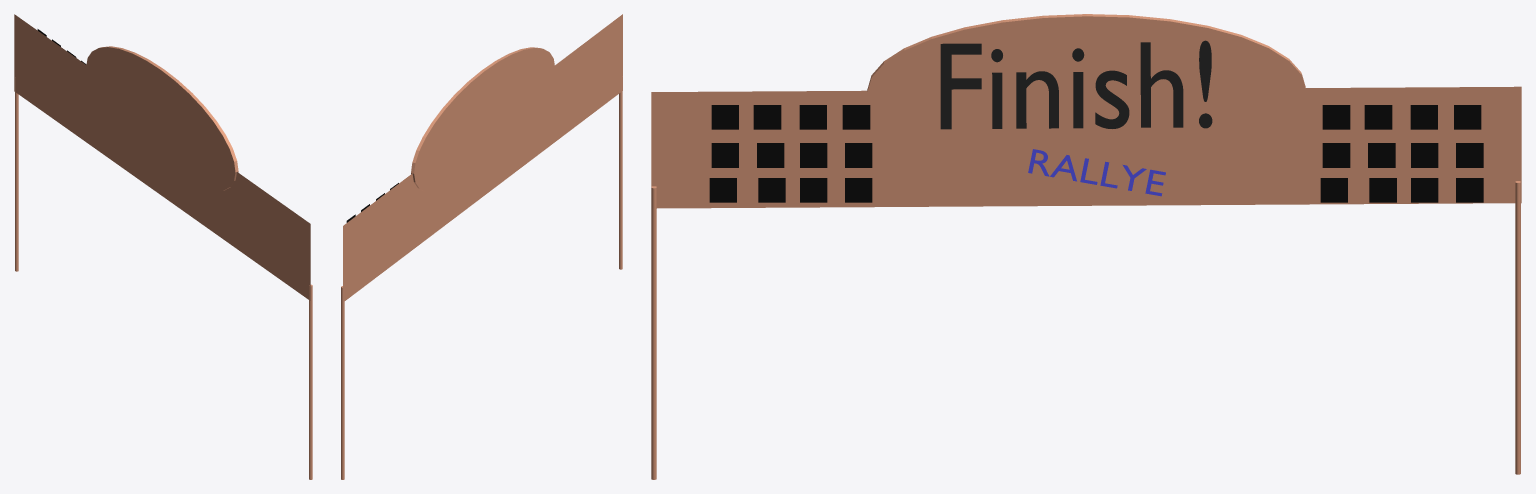
The model's file is endFlag.fbx.
The picture shows the model from 3 angles, left to right: view 1: azimuth 30°, elevation 25°; view 2: azimuth 150°, elevation 25°; view 3: azimuth 270°, elevation 25°; orthographic projection. The views are drawn at different scales.
Visible parts, largest first — view 1: Cylinder.001; view 2: Cylinder.001; view 3: Cylinder.001, ASACG, Text.
Boxes of the visible parts, x1=… form: Cylinder.001: x1=14, y1=14, x2=312, y2=479; Cylinder.001: x1=341, y1=14, x2=622, y2=479; Cylinder.001: x1=651, y1=14, x2=1521, y2=479; ASACG: x1=940, y1=40, x2=1212, y2=129; Text: x1=1028, y1=149, x2=1165, y2=196.
Bounding box in the file's own units: 64.63 × 1852 × 3175.
